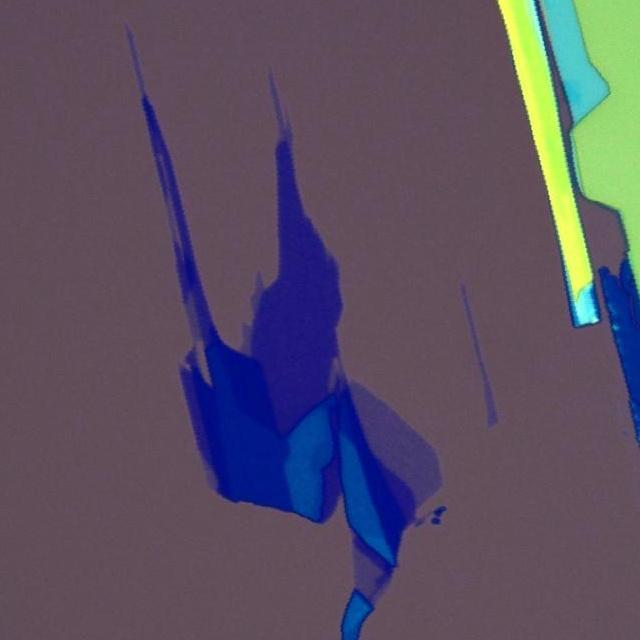monolayer-eWW4: (351, 380, 443, 509), (458, 278, 501, 427), (351, 544, 392, 606), (267, 70, 293, 146), (184, 292, 204, 344), (247, 267, 267, 314), (238, 322, 252, 354)
